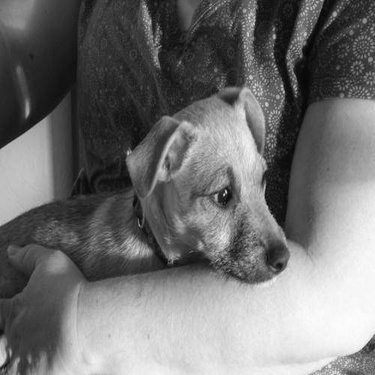dog: (1, 79, 293, 373)
